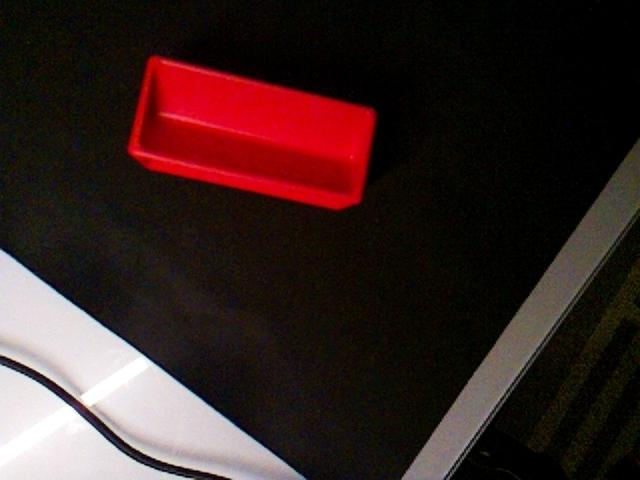red: (126, 53, 379, 212)
